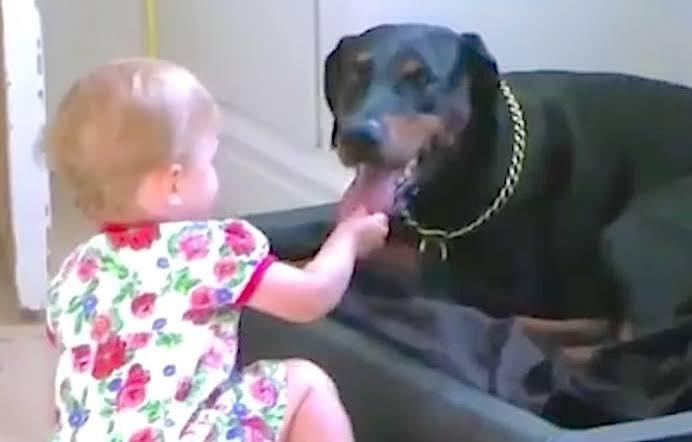adult_dog: (319, 21, 692, 321)
non-dog: (40, 54, 390, 442)
